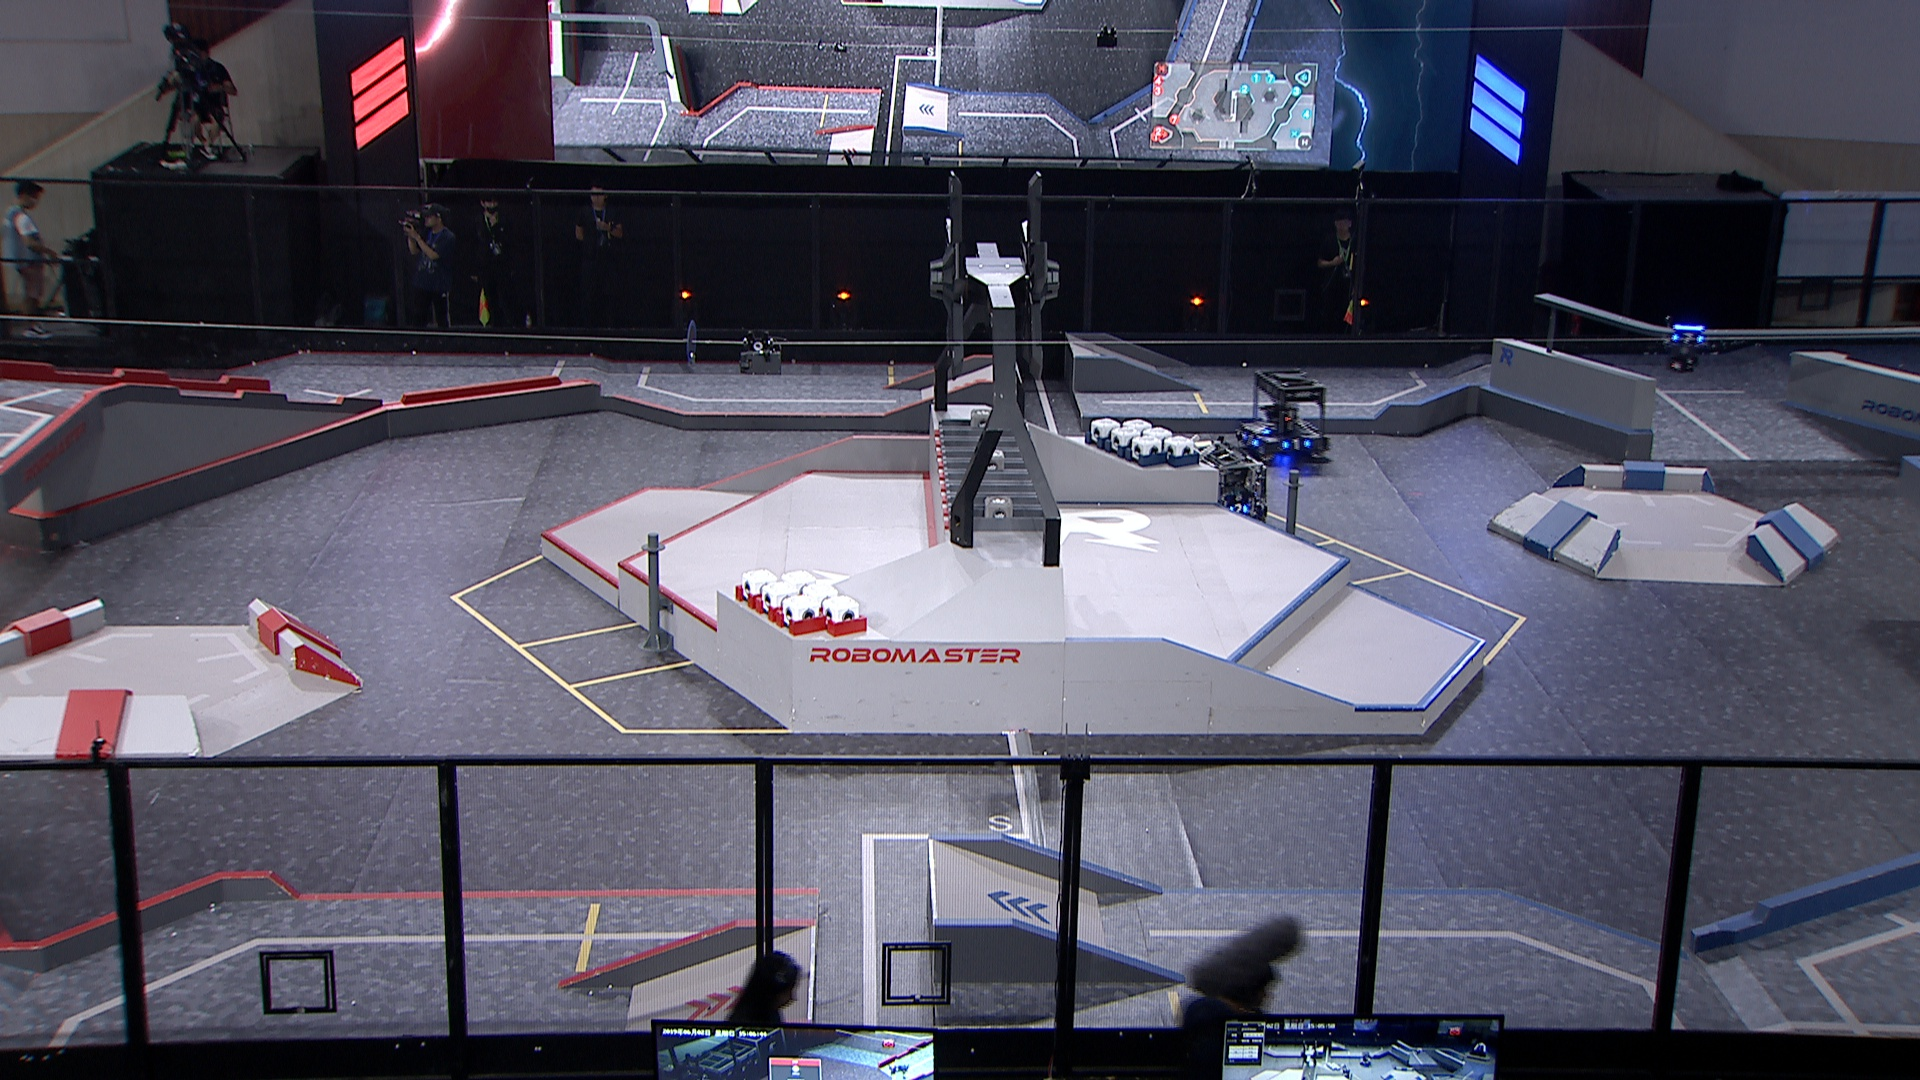armor: (1673, 328, 1702, 345), (1251, 419, 1271, 439), (1280, 438, 1309, 451), (1240, 431, 1258, 450), (1229, 500, 1247, 514)
car: (1230, 371, 1332, 465), (1182, 436, 1271, 537)
ignore: (1468, 1040, 1487, 1059), (1338, 1065, 1357, 1080), (1356, 1054, 1371, 1068)
watcher: (1658, 315, 1706, 372)
